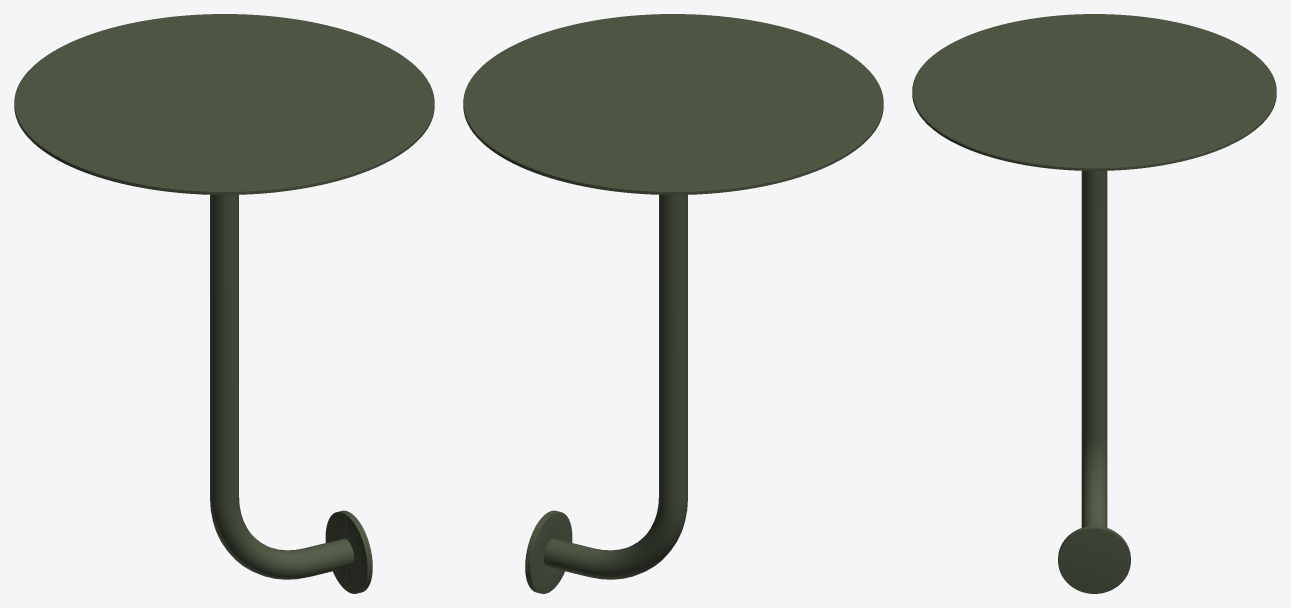
Rendered from coffeetable_susp_circle.glb.
3 renders of one model, left to right at view 1: azimuth 30°, elevation 25°; view 2: azimuth 150°, elevation 25°; view 3: azimuth 270°, elevation 25°, orthographic. The views are drawn at different scales.
Visible parts, largest first — view 1: rb_coffeetable_susp_circle_green; view 2: rb_coffeetable_susp_circle_green; view 3: rb_coffeetable_susp_circle_green.
Part boxes in pixels (box(x1,y1,x2,y2)): rb_coffeetable_susp_circle_green: box(14, 14, 434, 593); rb_coffeetable_susp_circle_green: box(463, 14, 883, 593); rb_coffeetable_susp_circle_green: box(912, 14, 1276, 593).
Bounding box in the file's own units: 0.4 × 0.544 × 0.4.
